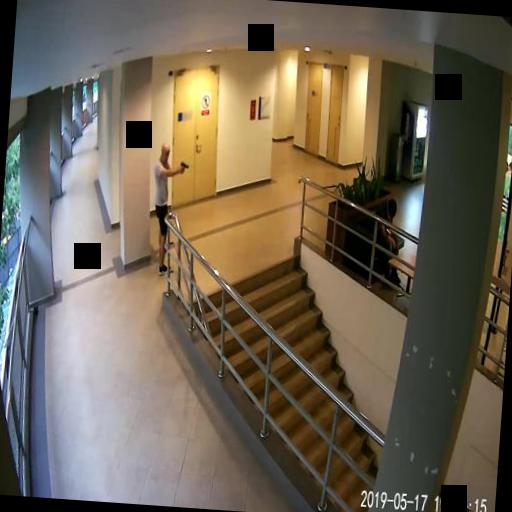Handgun: (178, 158, 188, 173)
